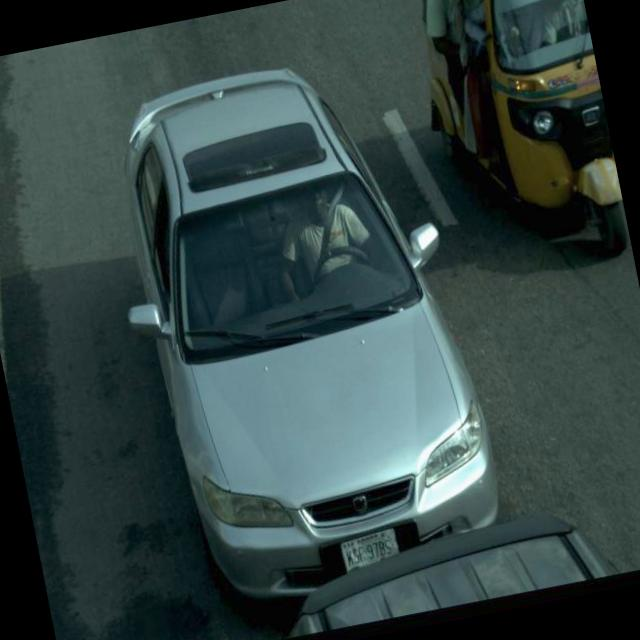person_with_seatbelt: (269, 164, 396, 326)
